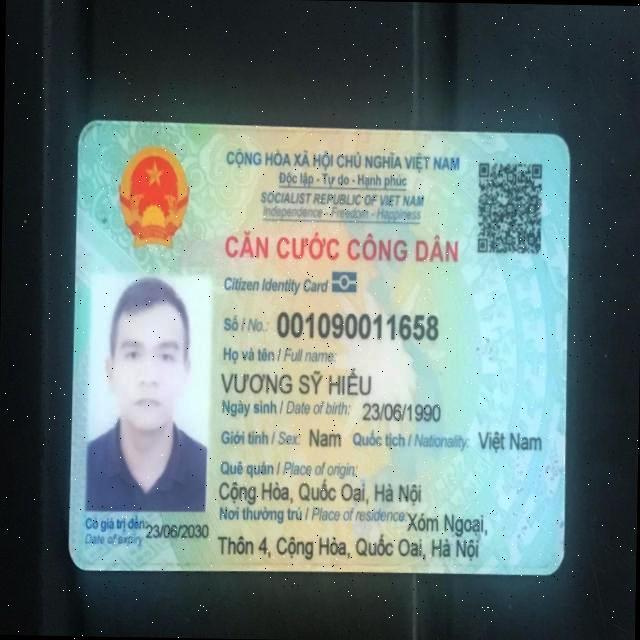current_place: (217, 528, 483, 564), (403, 504, 497, 538)
dob: (360, 397, 446, 426)
expire_date: (143, 521, 213, 542)
gender: (305, 425, 344, 453)
id: (273, 305, 442, 344)
name: (220, 366, 376, 397)
nationality: (476, 426, 543, 459)
origin_place: (209, 474, 438, 506)
